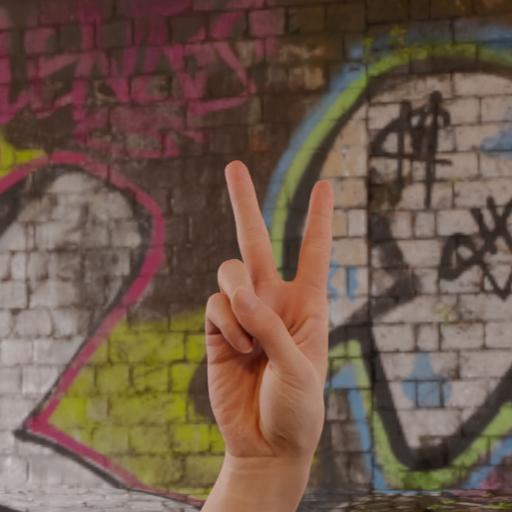V: (192, 154, 345, 484)
